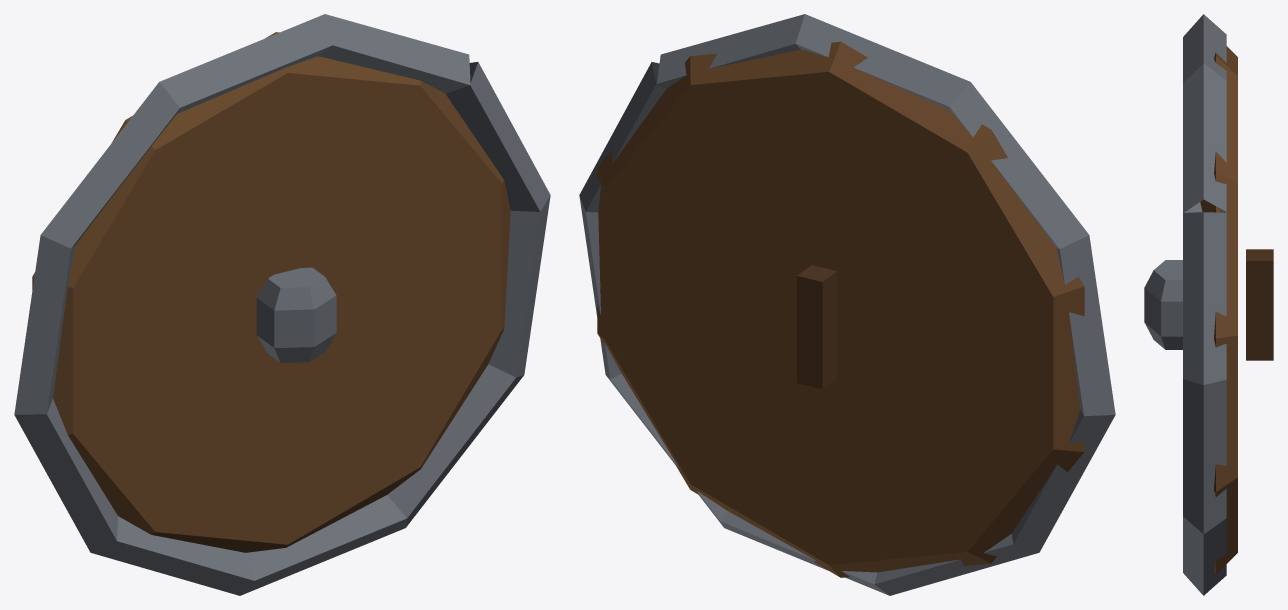
The model's file is gear_shield.glb.
3 views of the same model, side by side, from view 1: azimuth 30°, elevation 25°; view 2: azimuth 150°, elevation 25°; view 3: azimuth 270°, elevation 25° (orthographic). The views are drawn at different scales.
Visible parts, largest first — view 1: gear_shield; view 2: gear_shield; view 3: gear_shield.
Part boxes in pixels (left/top/right/bottom): gear_shield: left=14, top=14, right=550, bottom=595; gear_shield: left=579, top=14, right=1115, bottom=595; gear_shield: left=1144, top=14, right=1273, bottom=595.
Size of the model in its own units: 0.6281 by 0.6281 by 0.141.
